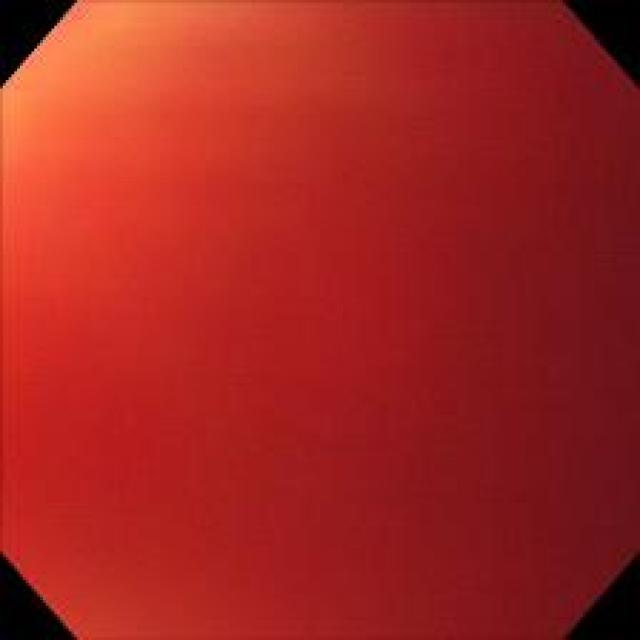color misalignment: (1, 8, 636, 628)
